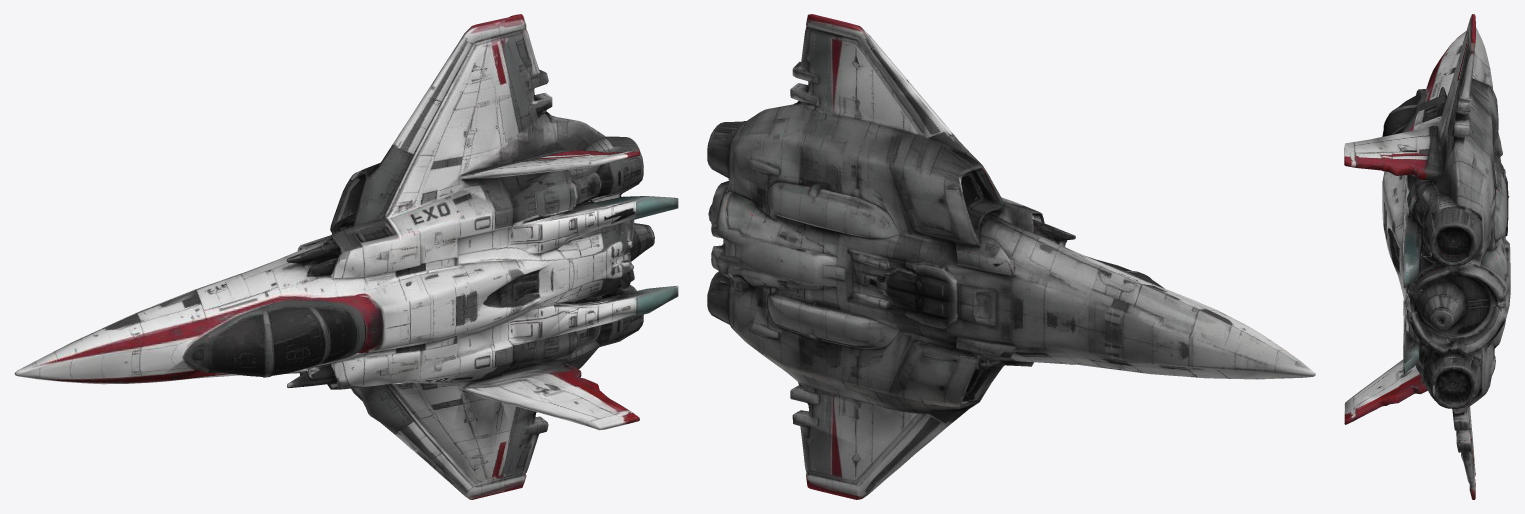
The picture shows the model from 3 angles, left to right: view 1: azimuth 30°, elevation 25°; view 2: azimuth 150°, elevation 25°; view 3: azimuth 270°, elevation 25°; orthographic projection. The views are drawn at different scales.
Parts seen in each view (by area): view 1: Mesh1.0_Material.001_0; view 2: Mesh1.0_Material.001_0; view 3: Mesh1.0_Material.001_0.
Part boxes in pixels (x1,y1,x2,y2): Mesh1.0_Material.001_0: (14,14,678,499); Mesh1.0_Material.001_0: (707,14,1315,499); Mesh1.0_Material.001_0: (1344,14,1510,499).
Bounding box in the file's own units: 1.91 × 1.38 × 0.4498.
Materials: 1 (1 with a texture image).
